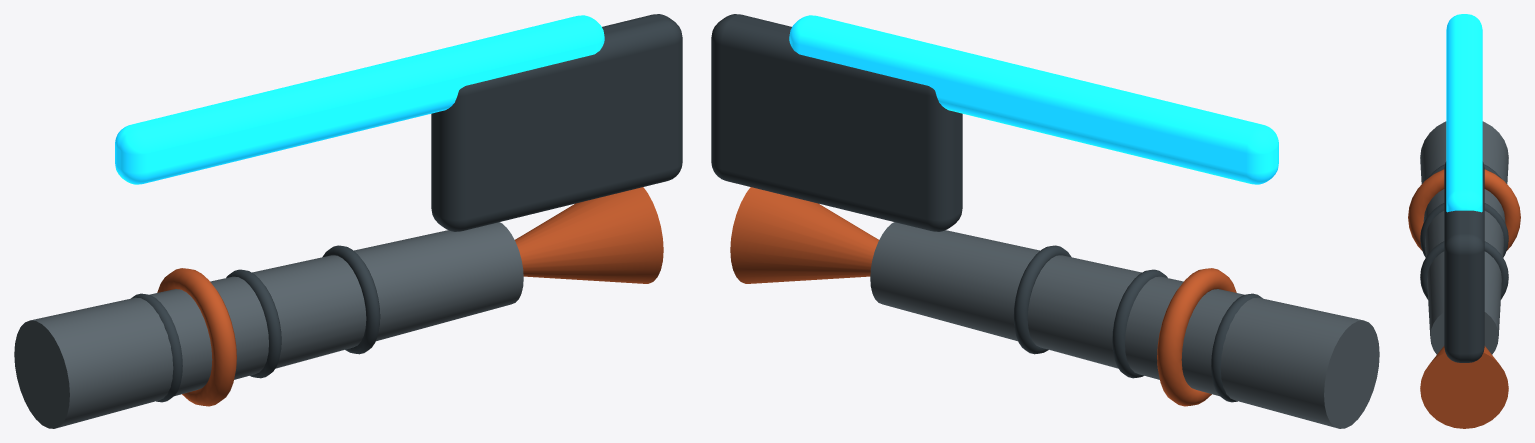
File: shot.glb
3 renders of one model, left to right at view 1: azimuth 30°, elevation 25°; view 2: azimuth 150°, elevation 25°; view 3: azimuth 270°, elevation 25°, orthographic. The views are drawn at different scales.
Bounding box in the file's own units: 2.9 × 1.26 × 0.56.
